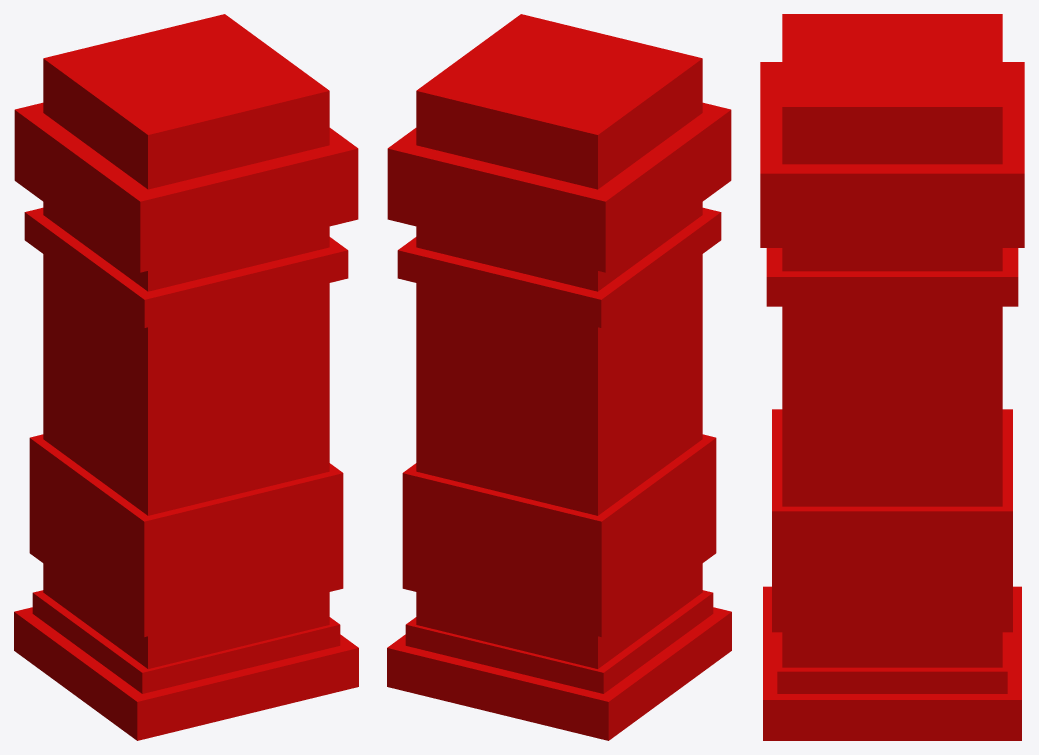
The model's file is SteeR2Pillar.fbx.
The picture shows the model from 3 angles, left to right: view 1: azimuth 30°, elevation 25°; view 2: azimuth 150°, elevation 25°; view 3: azimuth 270°, elevation 25°; orthographic projection. The views are drawn at different scales.
Parts seen in each view (by area): view 1: SteeR2Pillar; view 2: SteeR2Pillar; view 3: SteeR2Pillar.
Boxes of the visible parts, box(x1,y1,x2,y2) form: SteeR2Pillar: box(14, 14, 358, 740); SteeR2Pillar: box(387, 14, 731, 740); SteeR2Pillar: box(760, 14, 1024, 740).
Size of the model in its own units: 244 by 625 by 240.
